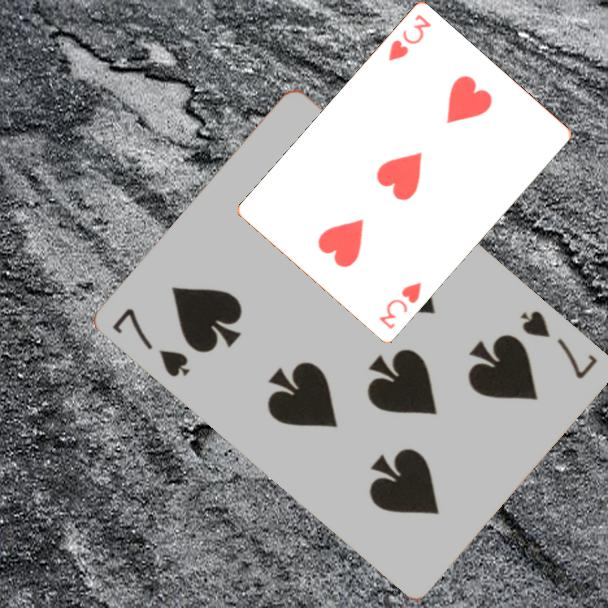h03: (375, 278, 425, 333), (385, 11, 434, 64)
s07: (109, 304, 194, 380), (517, 306, 601, 382)
